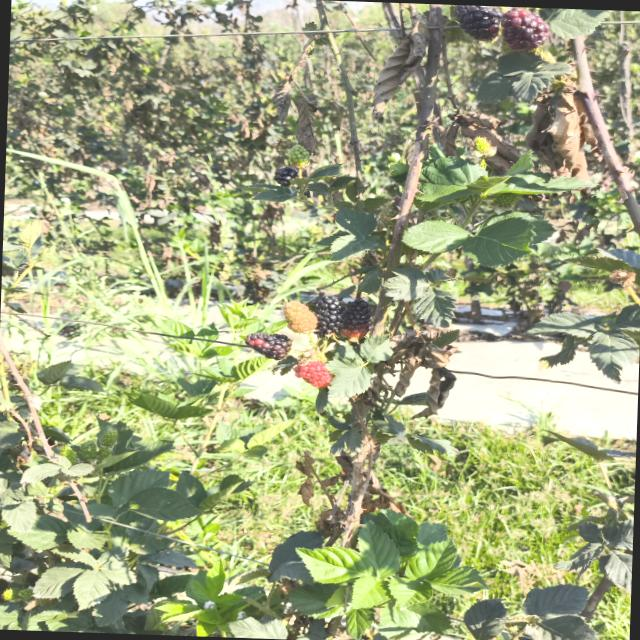maduro: (314, 294, 342, 335)
marron: (245, 332, 291, 360), (340, 298, 371, 338)
naranja: (283, 301, 317, 333), (294, 361, 333, 388)
